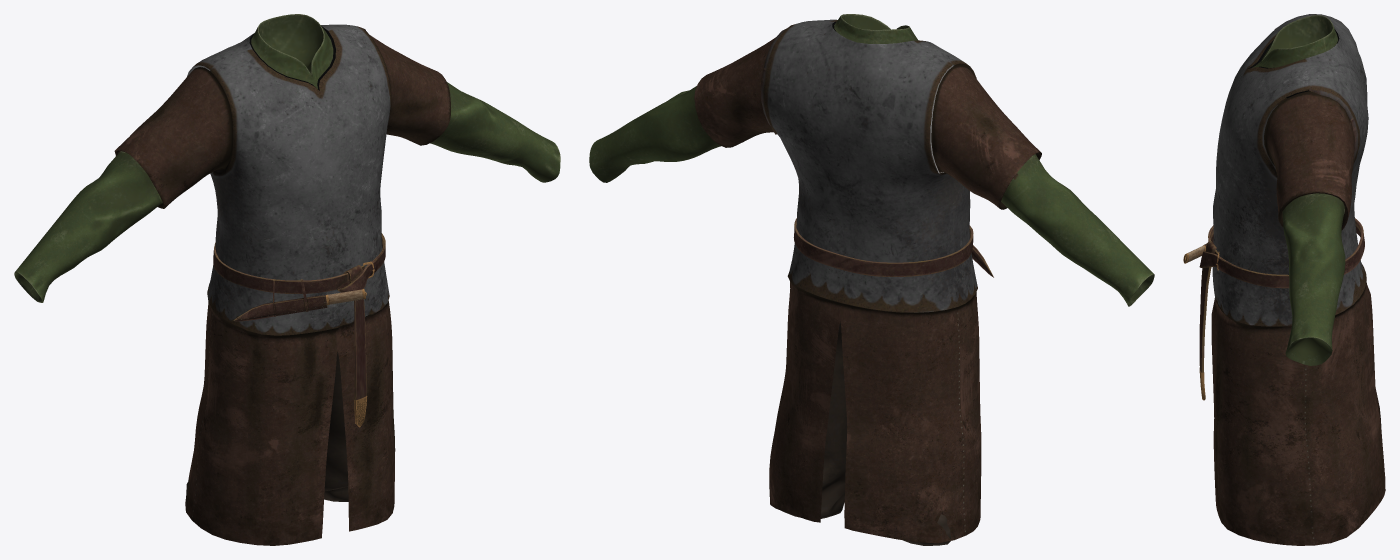
Rendered from cts_rohan_armor2222.fbx.
3 renders of one model, left to right at view 1: azimuth 30°, elevation 25°; view 2: azimuth 150°, elevation 25°; view 3: azimuth 270°, elevation 25°, orthographic. The views are drawn at different scales.
Parts seen in each view (by area): view 1: cts_rohan_armor2222; view 2: cts_rohan_armor2222; view 3: cts_rohan_armor2222.
Part boxes in pixels (box(x1,y1,x2,y2)): cts_rohan_armor2222: box(14, 14, 560, 545); cts_rohan_armor2222: box(589, 14, 1154, 545); cts_rohan_armor2222: box(1183, 14, 1385, 545).
Size of the model in its own units: 1.38 by 0.4543 by 1.18.
Materials: 1 (1 with a texture image).
